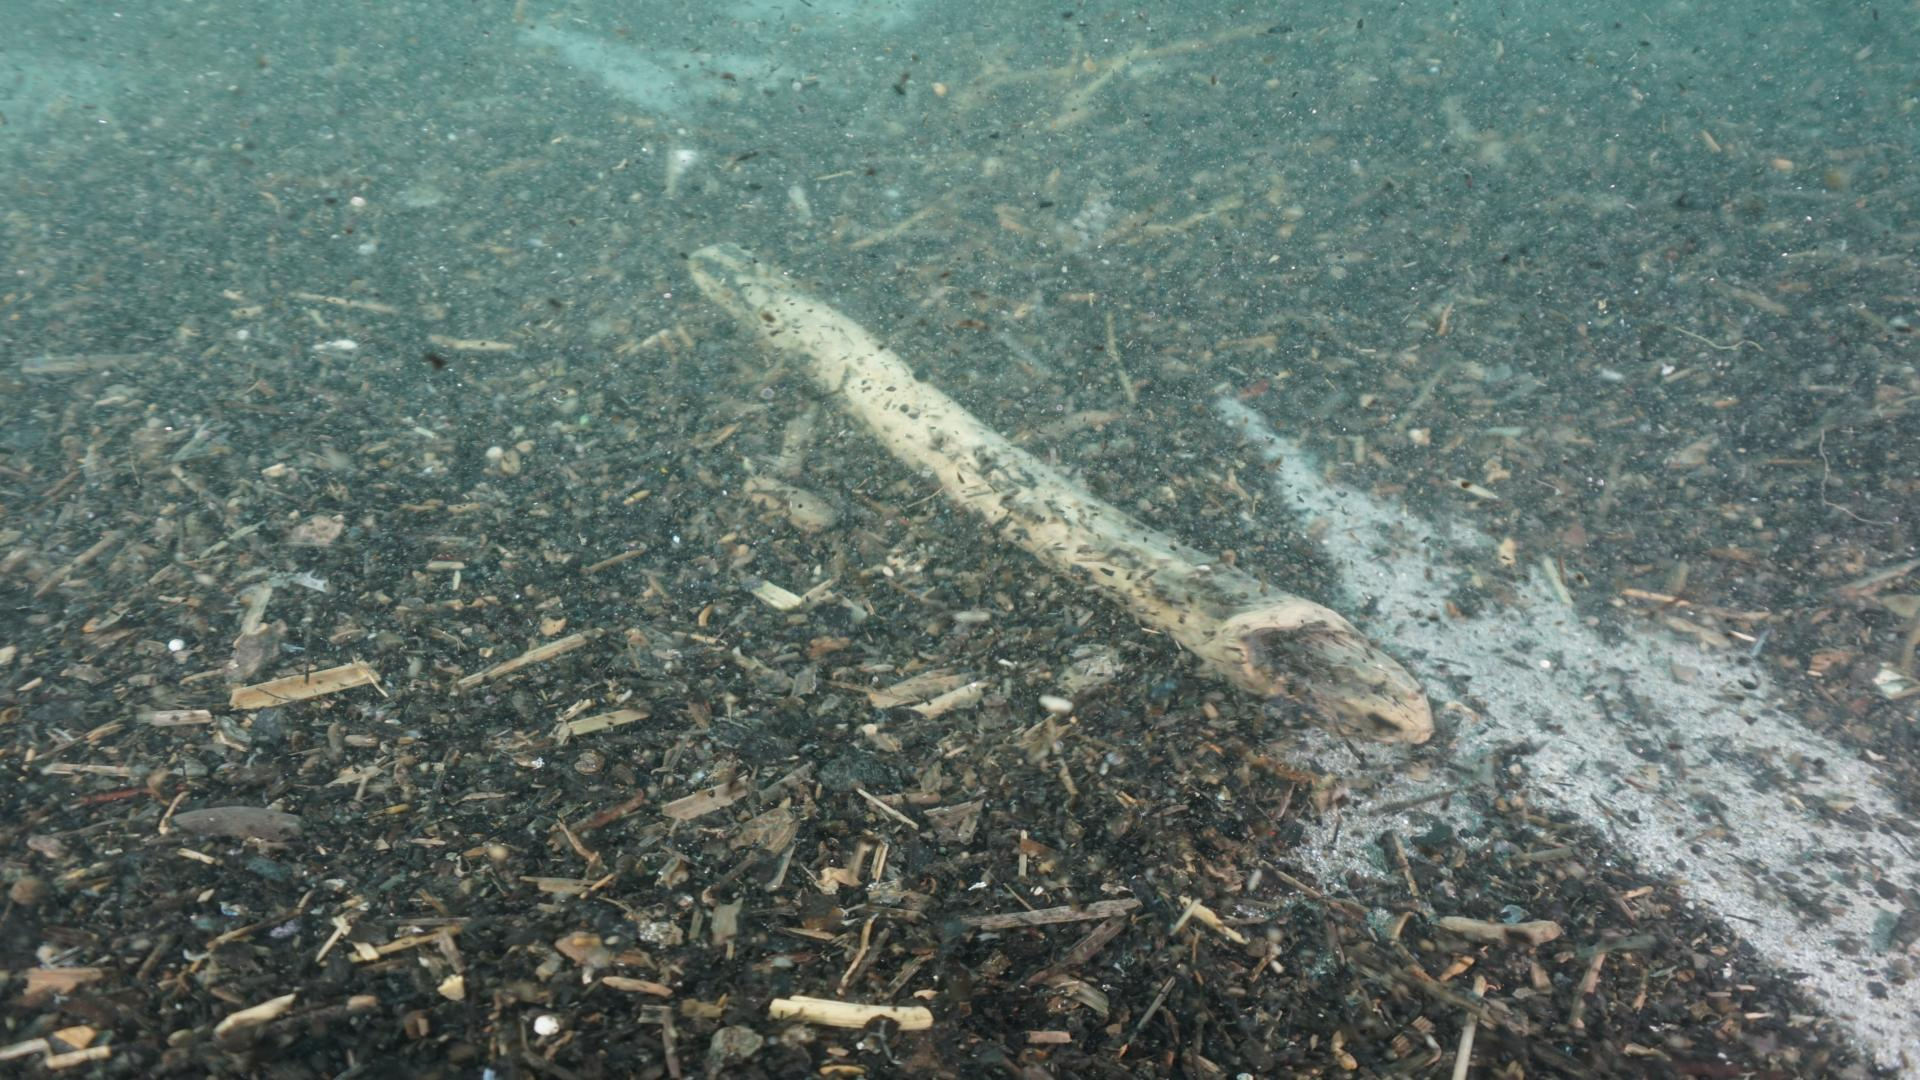wood: (682, 233, 1432, 745)
